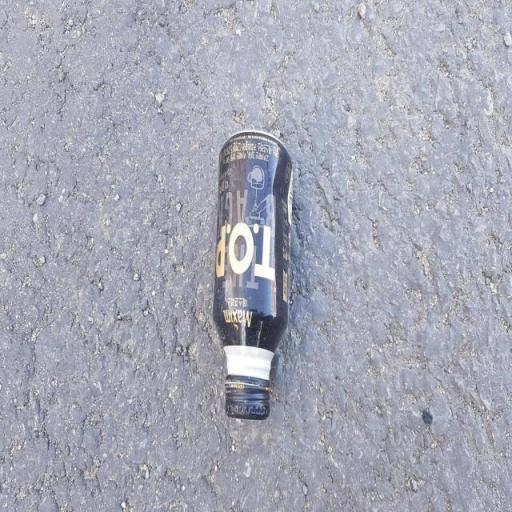metal: (190, 108, 310, 441)
